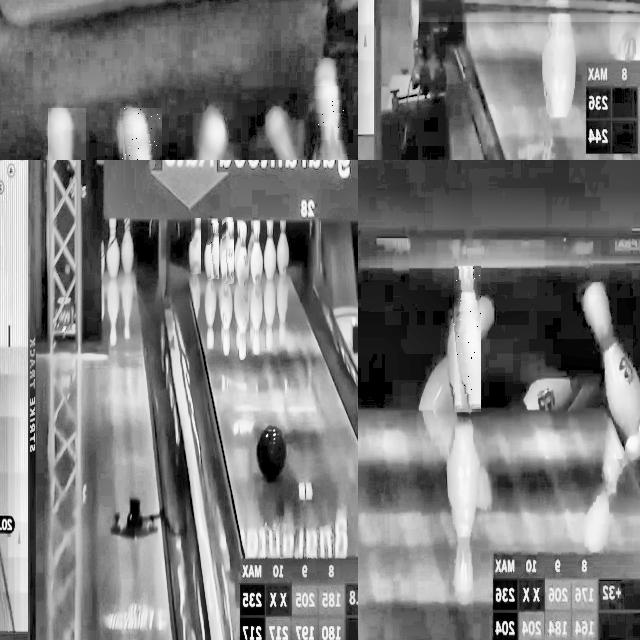bowling-ball: (257, 426, 286, 480)
bowling-pins: (454, 266, 480, 410), (318, 79, 341, 160), (236, 222, 250, 286), (107, 217, 120, 278), (251, 219, 263, 283), (264, 219, 276, 279), (277, 220, 289, 275), (122, 218, 133, 273), (225, 218, 233, 281), (210, 218, 218, 278), (192, 219, 200, 272), (248, 221, 254, 267)
